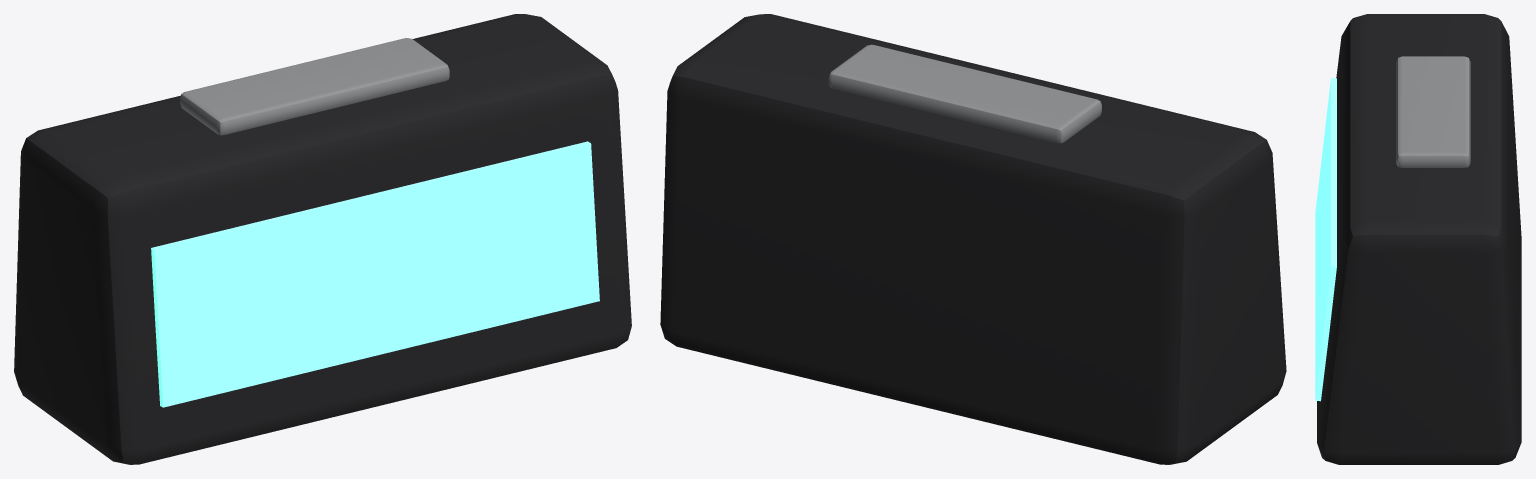
Rendered from trinket_clock_desk.glb.
3 renders of one model, left to right at view 1: azimuth 30°, elevation 25°; view 2: azimuth 150°, elevation 25°; view 3: azimuth 270°, elevation 25°, orthographic. The views are drawn at different scales.
Visible parts, largest first — view 1: SM_trinket_clock_desk; view 2: SM_trinket_clock_desk; view 3: SM_trinket_clock_desk.
Part boxes in pixels (x1,y1,x2,y2): SM_trinket_clock_desk: (14,14,631,464); SM_trinket_clock_desk: (660,14,1286,464); SM_trinket_clock_desk: (1315,14,1521,464).
Size of the model in its own units: 0.18 by 0.095 by 0.0692.
